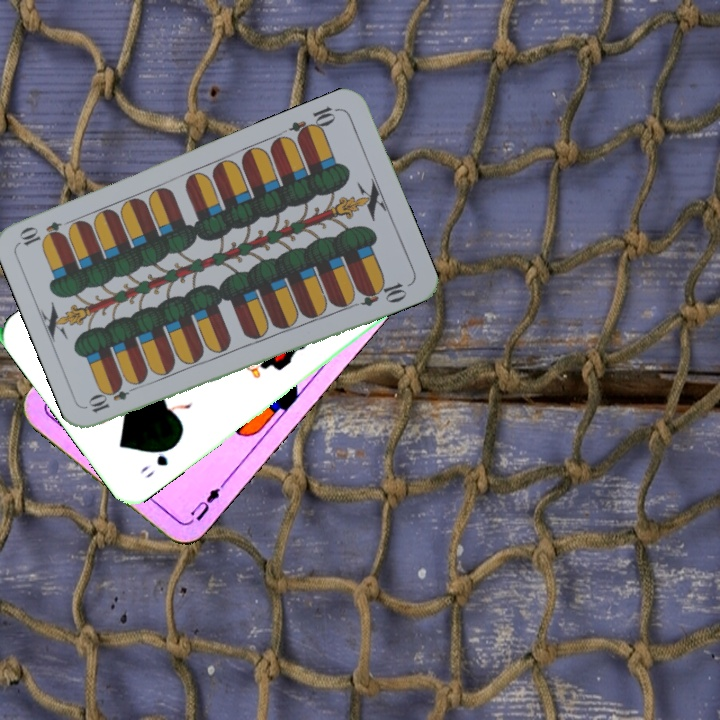E10: (286, 102, 342, 143), (85, 379, 142, 416)
EU: (184, 478, 228, 527)
GO: (135, 439, 180, 481)
